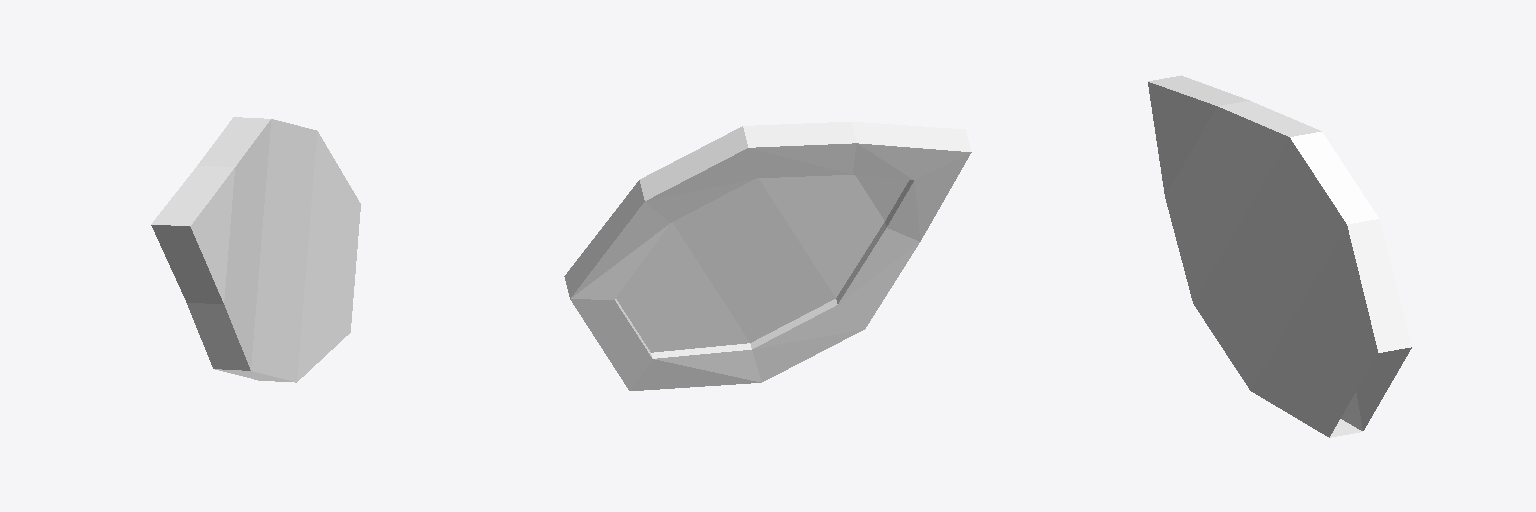
The model's file is EarL.obj.
3 renders of one model, left to right at view 1: azimuth 30°, elevation 25°; view 2: azimuth 150°, elevation 25°; view 3: azimuth 270°, elevation 25°, orthographic.
Parts seen in each view (by area): view 1: Earl1; view 2: Earl1; view 3: Earl1.
Part boxes in pixels (left/top/right/bottom): Earl1: left=151, top=117, right=360, bottom=382; Earl1: left=564, top=122, right=971, bottom=390; Earl1: left=1148, top=75, right=1411, bottom=437.
Size of the model in its own units: 2.02 by 1.61 by 1.5.